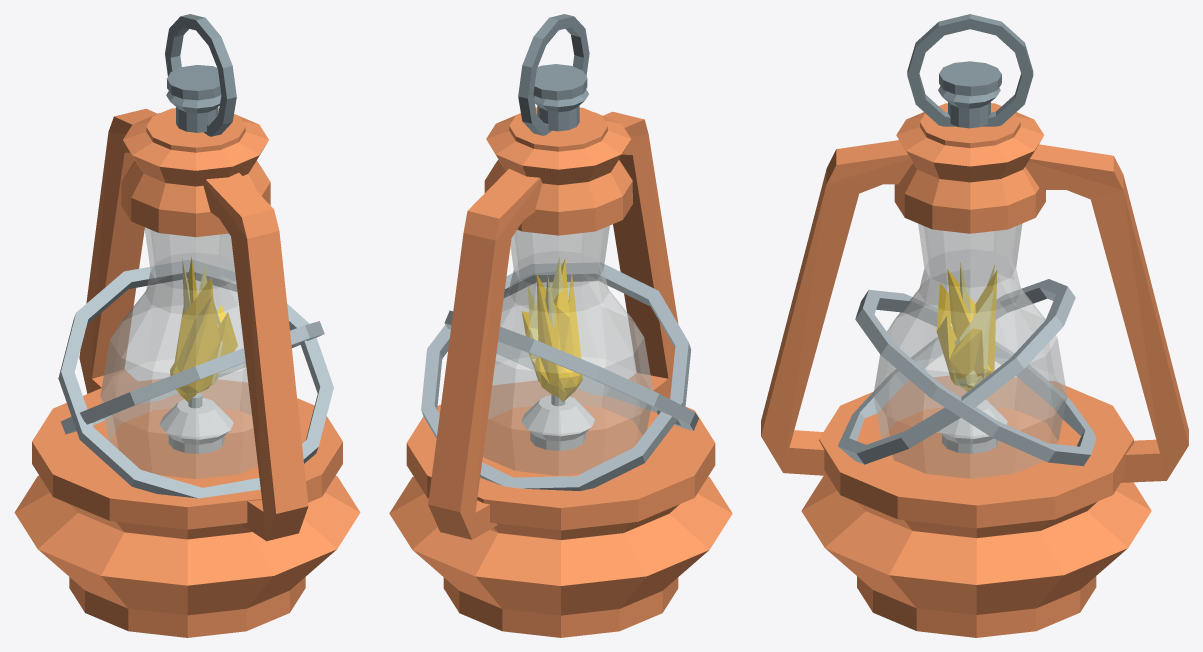
Rendered from keron-lamp.fbx.
3 renders of one model, left to right at view 1: azimuth 30°, elevation 25°; view 2: azimuth 150°, elevation 25°; view 3: azimuth 270°, elevation 25°, orthographic. The views are drawn at different scales.
Parts seen in each view (by area): view 1: model.001; view 2: model.001; view 3: model.001.
Boxes of the visible parts, box(x1,y1,x2,y2) form: model.001: box(14, 14, 360, 637); model.001: box(389, 14, 732, 637); model.001: box(761, 14, 1188, 637).
Bounding box in the file's own units: 177 × 321 × 216.
